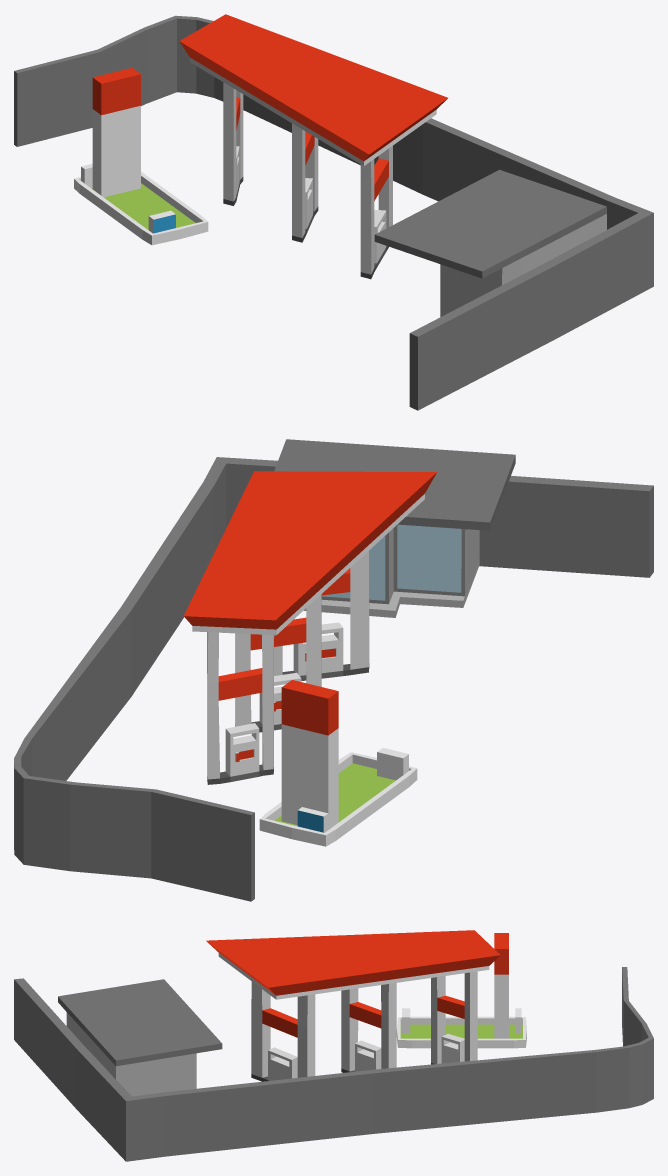
File: Pom Bensin.fbx
3 views of the same model, one above another, from view 1: azimuth 30°, elevation 25°; view 2: azimuth 150°, elevation 25°; view 3: azimuth 270°, elevation 25° (orthographic). The views are drawn at different scales.
Parts seen in each view (by area): view 1: tembok pom, gedung bangunan, bangunan pom, plang; view 2: tembok pom, gedung bangunan, bangunan pom, plang; view 3: tembok pom, gedung bangunan, bangunan pom, plang.
Boxes of the visible parts, x1,y1,x2,y2 form: tembok pom: [14, 15, 653, 410]; gedung bangunan: [179, 14, 447, 279]; bangunan pom: [374, 169, 606, 316]; plang: [74, 68, 208, 245]; tembok pom: [14, 457, 653, 901]; gedung bangunan: [184, 471, 436, 784]; bangunan pom: [274, 439, 515, 617]; plang: [259, 680, 417, 846]; tembok pom: [14, 967, 653, 1161]; gedung bangunan: [206, 930, 500, 1081]; bangunan pom: [58, 979, 222, 1096]; plang: [396, 933, 526, 1048].
Size of the model in its own units: 3554 by 1549 by 7102.
